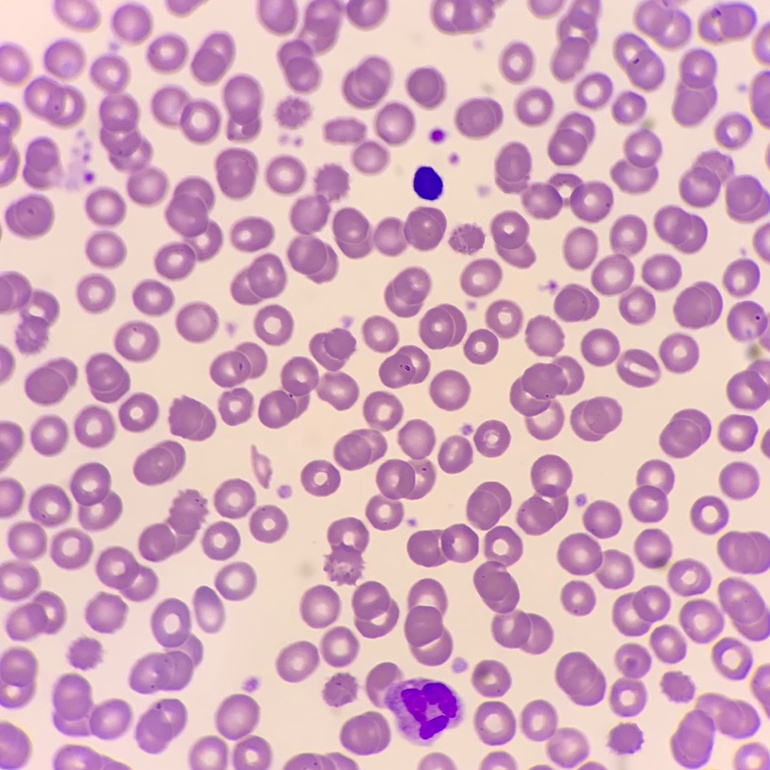RBC: (90, 53, 167, 205), (278, 0, 387, 93), (474, 526, 552, 653), (258, 329, 358, 427), (495, 142, 612, 222), (510, 316, 583, 439), (0, 485, 71, 600), (366, 420, 434, 529), (365, 663, 462, 739), (287, 165, 348, 281), (155, 177, 222, 279), (591, 215, 654, 323), (130, 599, 202, 693), (671, 693, 758, 767), (680, 151, 769, 222), (679, 577, 769, 642), (333, 207, 445, 257), (334, 391, 402, 469), (53, 673, 131, 738), (139, 489, 206, 561), (0, 272, 59, 353), (727, 301, 769, 410), (210, 343, 266, 424), (521, 700, 588, 767), (517, 455, 571, 534), (404, 579, 452, 665), (558, 533, 633, 588), (216, 694, 271, 769), (551, 0, 600, 81), (151, 86, 220, 143), (611, 122, 661, 193), (70, 463, 122, 530), (324, 119, 388, 173), (96, 547, 157, 600), (673, 49, 715, 125), (24, 76, 85, 127), (407, 524, 478, 566), (610, 643, 650, 716), (614, 32, 664, 90), (6, 591, 65, 640), (612, 586, 670, 635), (325, 518, 368, 583), (135, 698, 186, 752), (231, 254, 286, 304), (634, 0, 691, 48), (629, 460, 673, 522), (555, 652, 605, 705), (352, 581, 398, 637), (223, 75, 261, 141), (342, 57, 391, 108), (654, 206, 706, 253), (491, 211, 534, 267), (660, 409, 710, 457), (548, 113, 594, 165), (25, 358, 77, 404), (698, 1, 754, 43), (431, 0, 500, 33), (191, 32, 234, 84), (0, 647, 37, 707), (674, 282, 722, 328), (385, 267, 430, 316), (570, 397, 621, 440), (134, 441, 185, 484), (717, 531, 769, 573), (86, 353, 129, 402), (340, 712, 390, 754), (419, 304, 466, 348), (5, 194, 53, 237), (216, 148, 257, 198), (379, 346, 429, 387), (467, 482, 510, 528), (23, 137, 60, 189), (170, 398, 215, 440), (455, 98, 502, 138), (474, 701, 515, 744), (115, 321, 159, 361), (54, 745, 126, 769), (111, 2, 152, 43), (300, 585, 340, 627), (276, 641, 318, 681), (43, 38, 84, 78), (0, 103, 20, 185), (75, 406, 115, 447), (375, 102, 414, 144), (554, 284, 598, 321), (214, 479, 255, 518), (51, 529, 92, 568), (712, 638, 751, 679), (406, 68, 445, 108), (86, 593, 126, 632), (177, 303, 218, 341), (617, 349, 659, 386), (430, 370, 469, 409), (147, 34, 187, 72), (215, 562, 255, 600), (668, 559, 710, 595), (266, 156, 305, 194), (86, 188, 125, 226), (254, 305, 292, 344), (659, 334, 698, 372), (119, 393, 158, 431), (461, 259, 501, 296), (31, 415, 68, 455), (321, 626, 358, 666), (719, 462, 758, 499), (634, 529, 671, 568), (231, 217, 273, 251), (77, 274, 114, 312), (690, 496, 728, 533), (202, 522, 240, 559), (86, 231, 125, 267), (133, 280, 173, 315), (53, 0, 99, 30), (0, 722, 30, 768), (516, 88, 553, 125), (250, 505, 287, 542), (642, 254, 680, 290), (581, 329, 619, 365), (718, 415, 756, 451), (583, 501, 621, 537), (472, 660, 510, 696), (194, 587, 224, 632), (723, 259, 759, 296), (301, 460, 339, 495), (501, 42, 533, 83), (564, 228, 596, 269), (575, 73, 612, 108), (486, 300, 521, 337), (650, 625, 685, 662), (259, 0, 297, 34), (0, 43, 30, 84), (474, 421, 509, 456), (438, 436, 472, 472), (190, 736, 227, 769), (715, 114, 750, 148), (363, 317, 397, 351), (285, 753, 357, 769), (464, 329, 497, 363), (561, 581, 594, 614), (323, 673, 357, 705), (0, 422, 23, 469), (608, 723, 642, 754), (612, 92, 645, 123), (751, 70, 769, 126), (69, 638, 101, 668), (450, 225, 484, 253), (277, 98, 309, 127), (662, 672, 694, 701), (0, 478, 23, 517), (413, 167, 441, 199), (735, 743, 769, 769), (752, 664, 769, 712), (481, 751, 515, 769), (754, 24, 769, 63), (753, 224, 769, 260), (419, 753, 454, 769), (529, 0, 562, 16), (166, 0, 200, 15), (0, 347, 14, 380), (254, 455, 270, 483), (430, 129, 444, 142), (761, 433, 769, 455), (582, 762, 602, 769), (83, 171, 93, 182), (454, 659, 464, 670), (245, 679, 256, 689), (280, 486, 290, 496), (536, 765, 548, 769)
